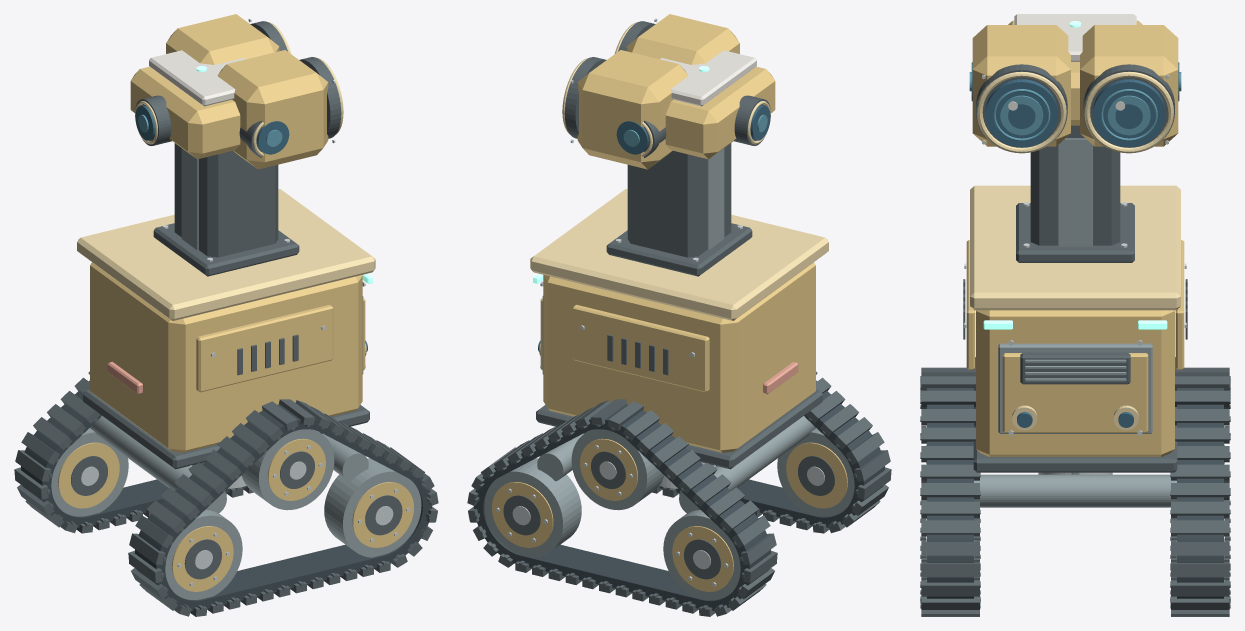
The model's file is roomscan-rs01.glb.
3 renders of one model, left to right at view 1: azimuth 30°, elevation 25°; view 2: azimuth 150°, elevation 25°; view 3: azimuth 270°, elevation 25°, orthographic. The views are drawn at different scales.
Parts seen in each view (by area): view 1: Base_ochre, CameraHead_ochre, Base_gold_edge, Base_graphite, Base_rubber, Base_dark_alloy, WheelRightFront_dark_alloy, CameraHead_graphite, CameraHead_ivory, WheelRight_dark_alloy, WheelRightRear_dark_alloy, WheelLeftRear_ochre (+10 smaller); view 2: Base_ochre, CameraHead_ochre, Base_gold_edge, Base_graphite, Base_rubber, Base_dark_alloy, WheelLeftFront_dark_alloy, CameraHead_graphite, CameraHead_ivory, WheelLeft_dark_alloy, WheelLeftRear_dark_alloy, WheelRightRear_ochre (+10 smaller); view 3: Base_ochre, Base_gold_edge, Base_graphite, Base_dark_alloy, CameraHead_ochre, Base_rubber, CameraHead_glass, CameraHead_gold_edge, CameraHead_graphite, CameraHead_lens_blue, CameraHead_ivory, TreadLeft26 (+28 smaller).
Part boxes in pixels (bbox=[...]): Base_ochre: bbox=[90, 262, 365, 452]; CameraHead_ochre: bbox=[130, 14, 328, 169]; Base_gold_edge: bbox=[77, 189, 375, 355]; Base_graphite: bbox=[83, 143, 369, 469]; Base_rubber: bbox=[21, 380, 431, 610]; Base_dark_alloy: bbox=[90, 148, 368, 513]; WheelRightFront_dark_alloy: bbox=[324, 458, 421, 557]; CameraHead_graphite: bbox=[135, 21, 341, 157]; CameraHead_ivory: bbox=[149, 50, 245, 106]; WheelRight_dark_alloy: bbox=[241, 429, 334, 510]; WheelRightRear_dark_alloy: bbox=[165, 510, 242, 599]; WheelLeftRear_ochre: bbox=[58, 442, 119, 508]; Base_ochre: bbox=[540, 262, 815, 452]; CameraHead_ochre: bbox=[577, 14, 775, 169]; Base_gold_edge: bbox=[530, 189, 828, 355]; Base_graphite: bbox=[536, 143, 822, 469]; Base_rubber: bbox=[474, 380, 884, 610]; Base_dark_alloy: bbox=[537, 148, 815, 513]; WheelLeftFront_dark_alloy: bbox=[484, 458, 581, 557]; CameraHead_graphite: bbox=[564, 21, 770, 157]; CameraHead_ivory: bbox=[660, 50, 756, 106]; WheelLeft_dark_alloy: bbox=[571, 429, 664, 510]; WheelLeftRear_dark_alloy: bbox=[663, 510, 740, 599]; WheelRightRear_ochre: bbox=[786, 442, 847, 508]; Base_ochre: bbox=[966, 240, 1184, 456]; Base_gold_edge: bbox=[970, 185, 1180, 430]; Base_graphite: bbox=[963, 125, 1187, 472]; Base_dark_alloy: bbox=[974, 138, 1176, 507]; CameraHead_ochre: bbox=[972, 20, 1178, 146]; Base_rubber: bbox=[927, 388, 1223, 598]; CameraHead_glass: bbox=[971, 62, 1179, 147]; CameraHead_gold_edge: bbox=[977, 71, 1173, 153]; CameraHead_graphite: bbox=[976, 64, 1174, 149]; CameraHead_lens_blue: bbox=[969, 72, 1181, 140]; CameraHead_ivory: bbox=[1008, 14, 1136, 110]; TreadLeft26: bbox=[1170, 501, 1230, 517].
Bounding box in the file's own units: 0.3678 × 0.6029 × 0.318.
